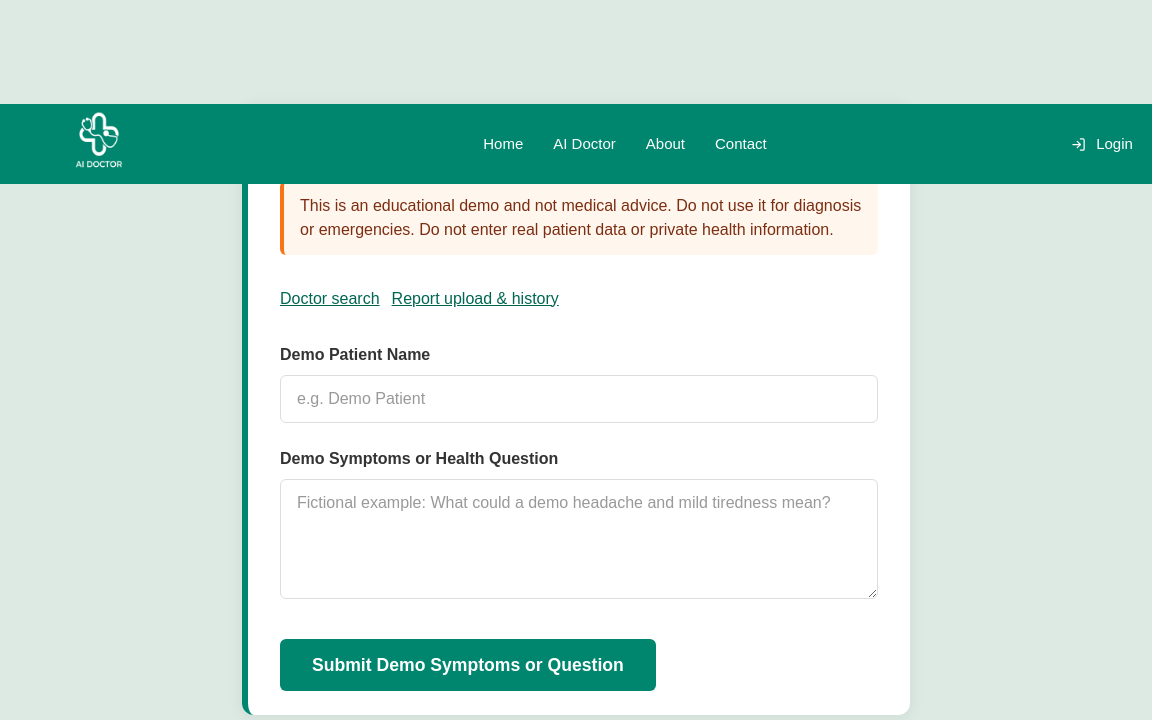
Test: SymptomChecker › shows disclaimer and submits demo symptoms successfully
Expected: the text "educational demo and not medical advice" is shown, [300, 197, 861, 238]
Type "Demo Patient" into the field labelled "Demo Patient Name" at [579, 399], box [280, 375, 878, 423]
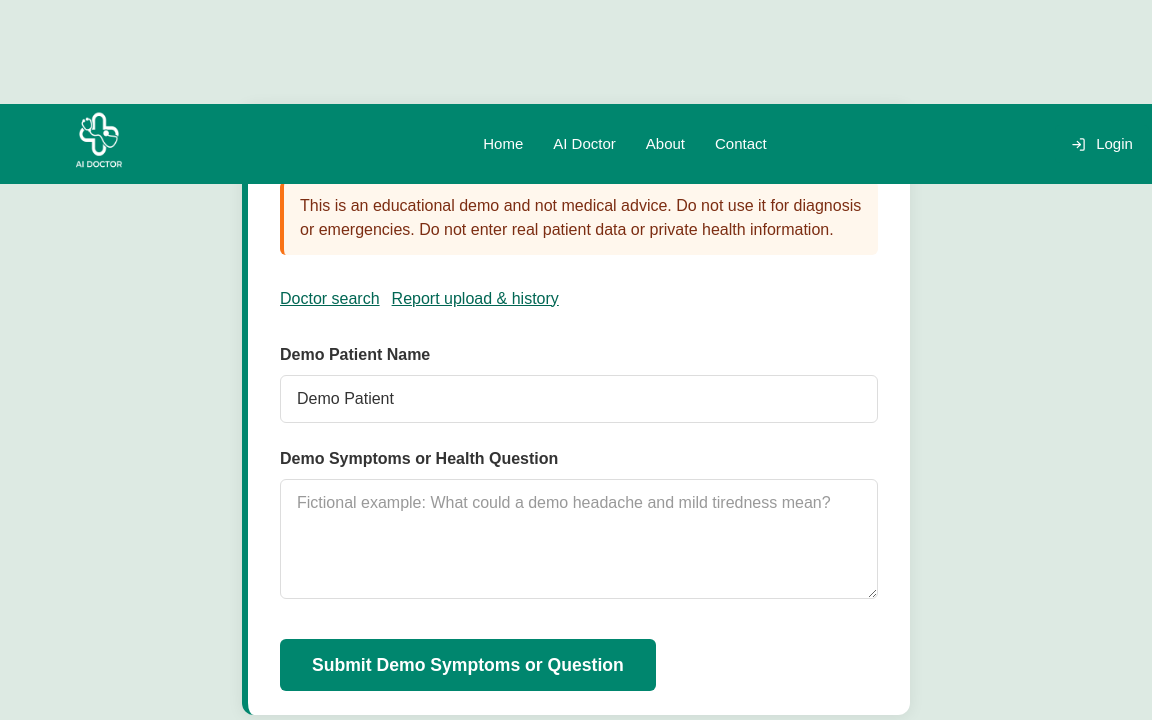
Replace the text in the text box labelled "Demo Symptoms or Health Question" with "fictional headache" at [579, 539], box [280, 479, 878, 599]
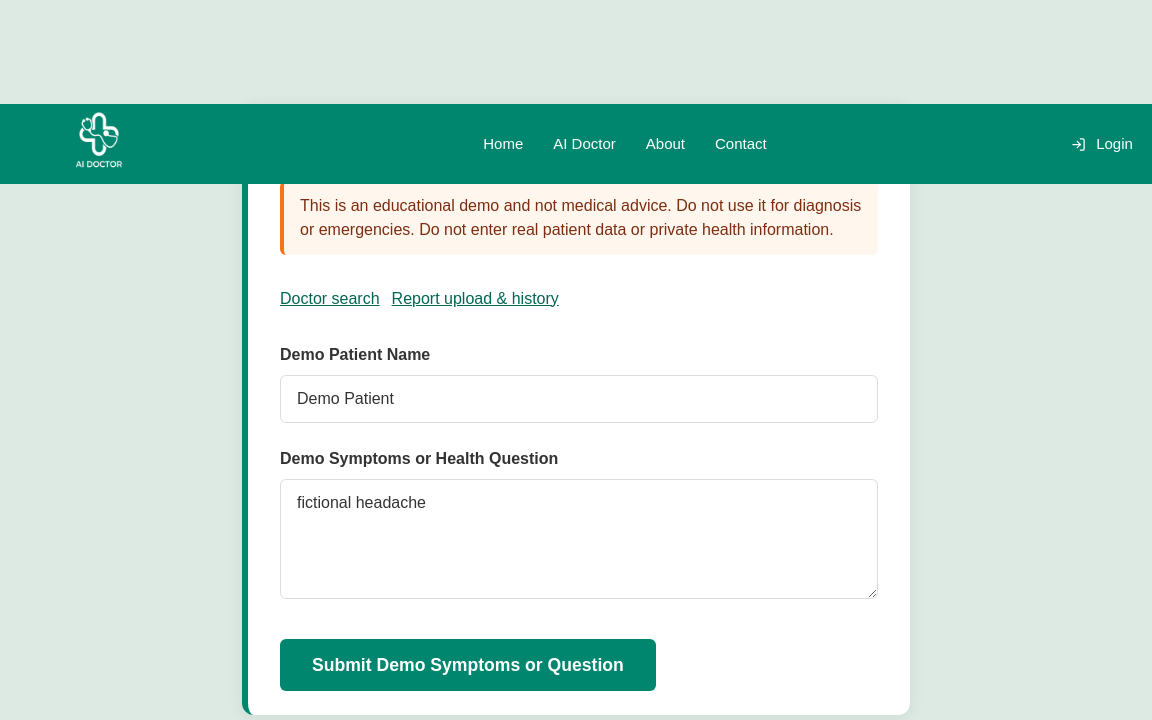
Click the button "Submit Demo Symptoms or Question" at [468, 665], box [280, 639, 656, 691]
(page scrolled)
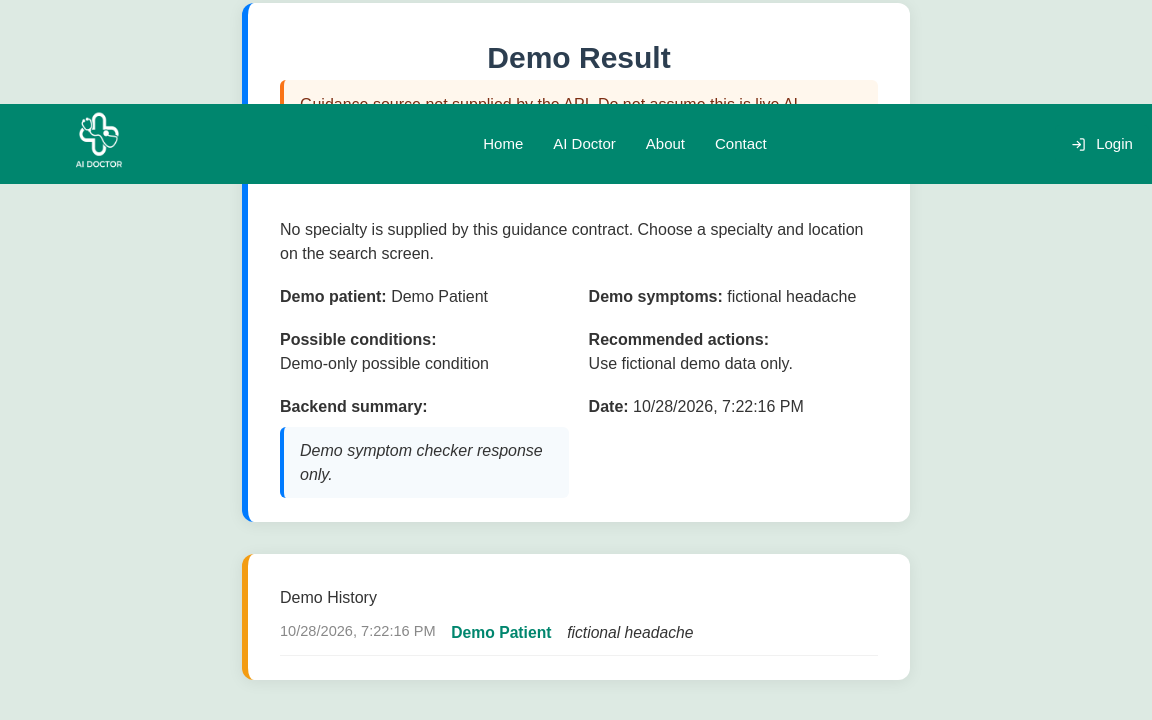
Expected: the heading "Demo Result" is shown, [487, 41, 671, 74]
Expected: the text "Demo symptom checker response only." is shown, [280, 428, 569, 498]
